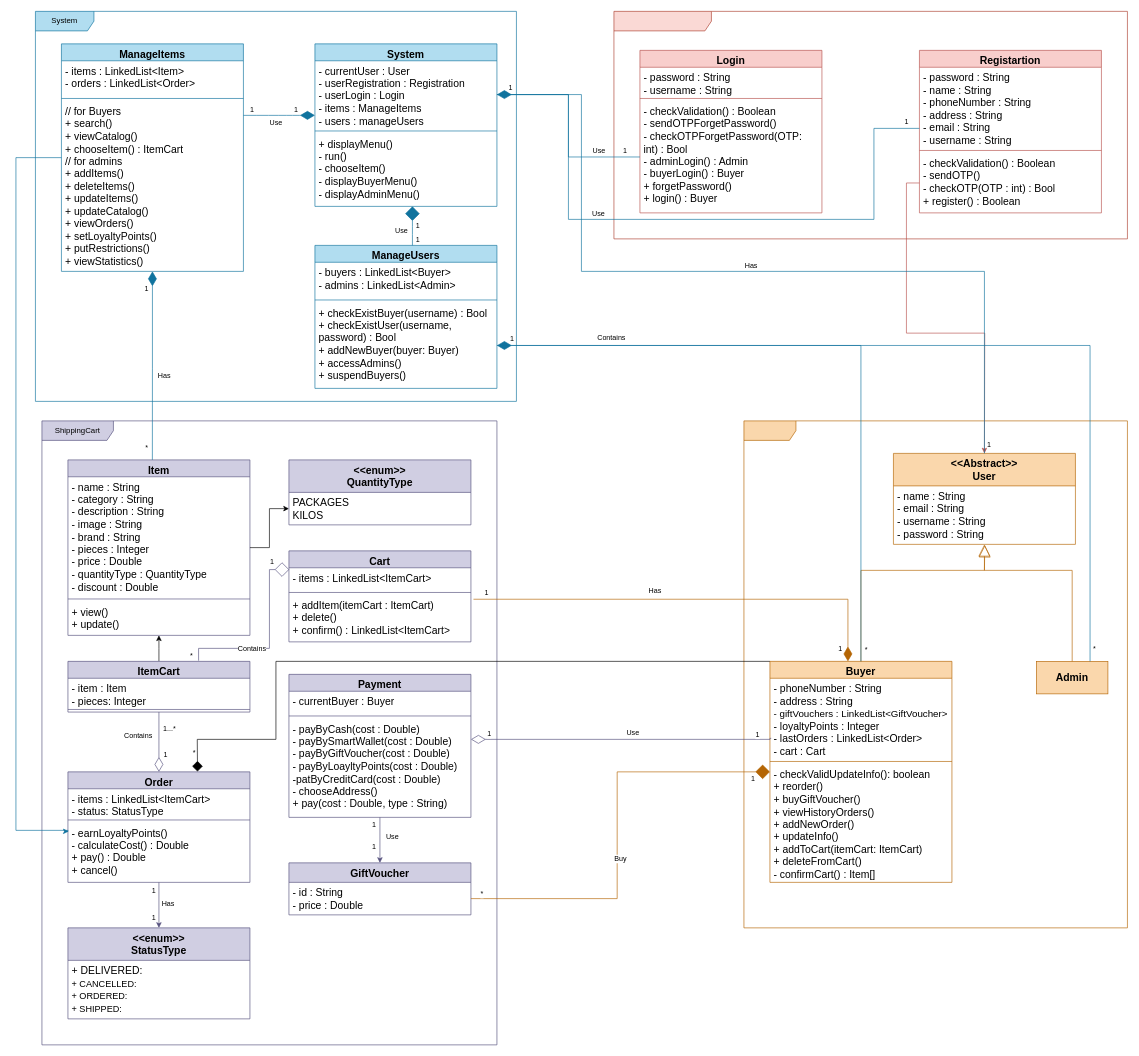
This 1139x1056 diagram has some shape labels left out. The centre of each missing label's shape, as x and y in pixels:
"Authentications" belongs at (870,125).
"Users" belongs at (935,674).
